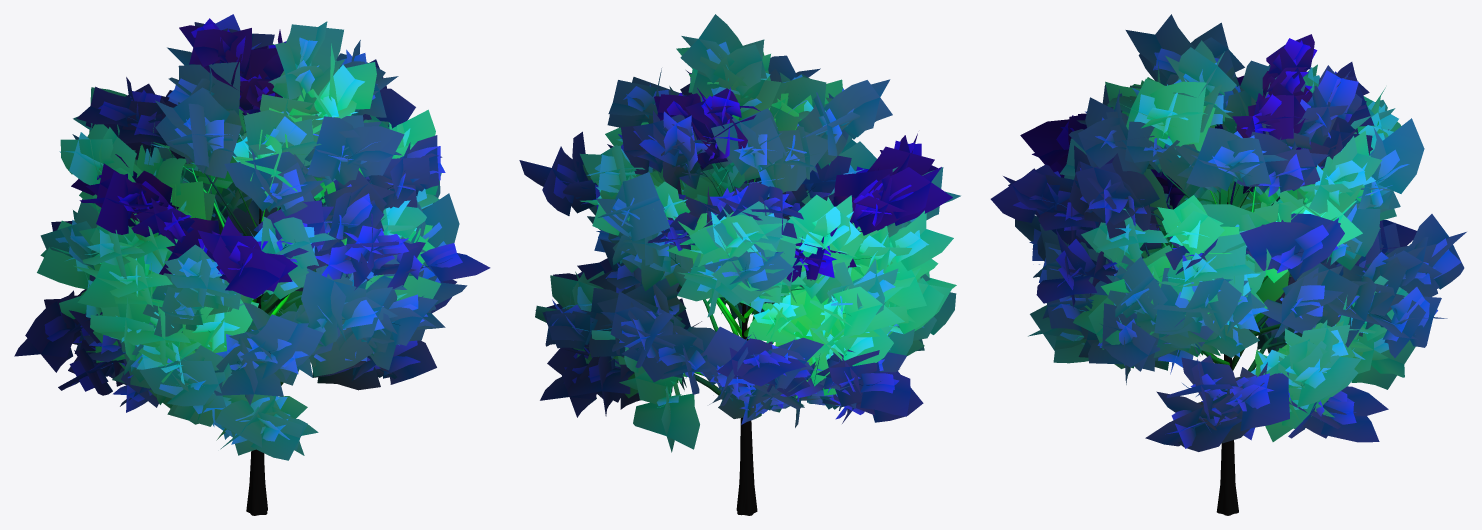
File: cP_Tree03.fbx
3 views of the same model, side by side, from view 1: azimuth 30°, elevation 25°; view 2: azimuth 150°, elevation 25°; view 3: azimuth 270°, elevation 25° (orthographic). The views are drawn at different scales.
Visible parts, largest first — view 1: cP_Tree03_LOD0; view 2: cP_Tree03_LOD0; view 3: cP_Tree03_LOD0.
Boxes of the visible parts, left/top/right/bottom form: cP_Tree03_LOD0: left=14, top=14, right=490, bottom=515; cP_Tree03_LOD0: left=519, top=14, right=960, bottom=515; cP_Tree03_LOD0: left=990, top=14, right=1466, bottom=515.
Size of what is drawn, in the model's own units: 830 by 979 by 866.
